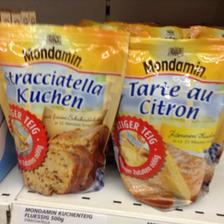Kuchen: (0, 21, 128, 198), (105, 32, 223, 208)
